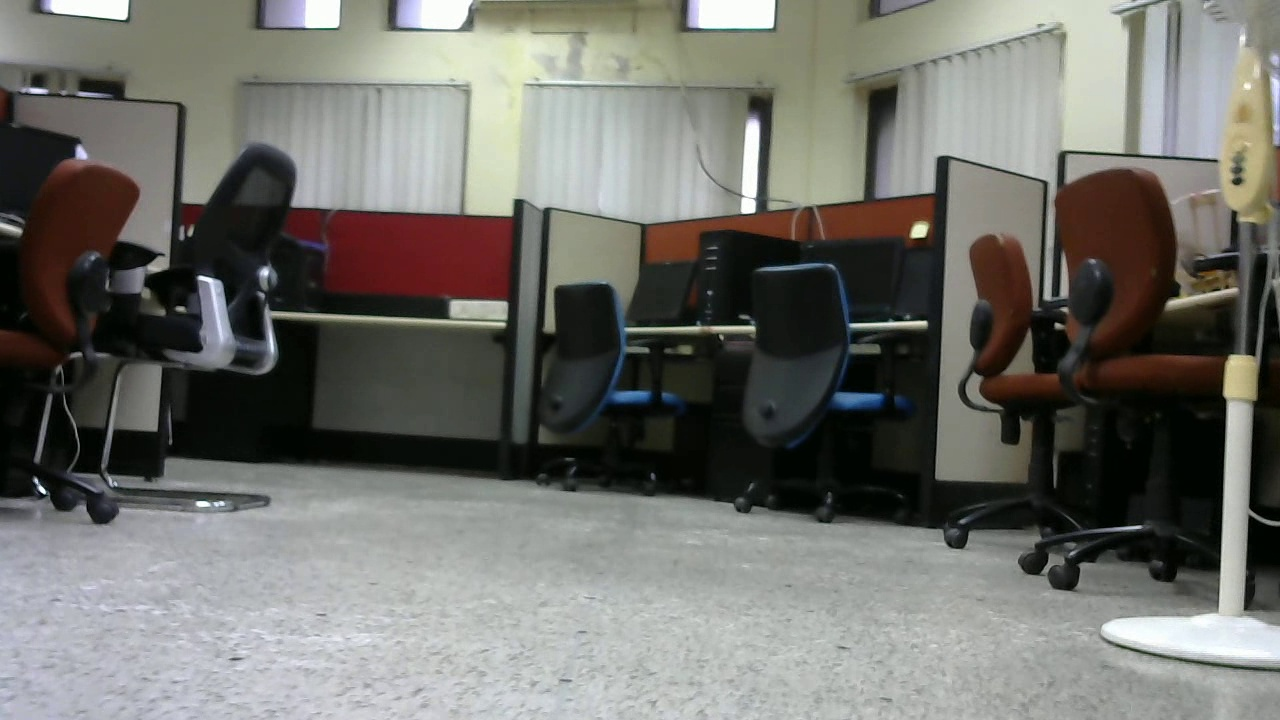chair: (1038, 169, 1280, 589), (144, 137, 309, 512), (716, 260, 928, 519), (947, 226, 1101, 555), (3, 155, 122, 517), (531, 282, 682, 491)
